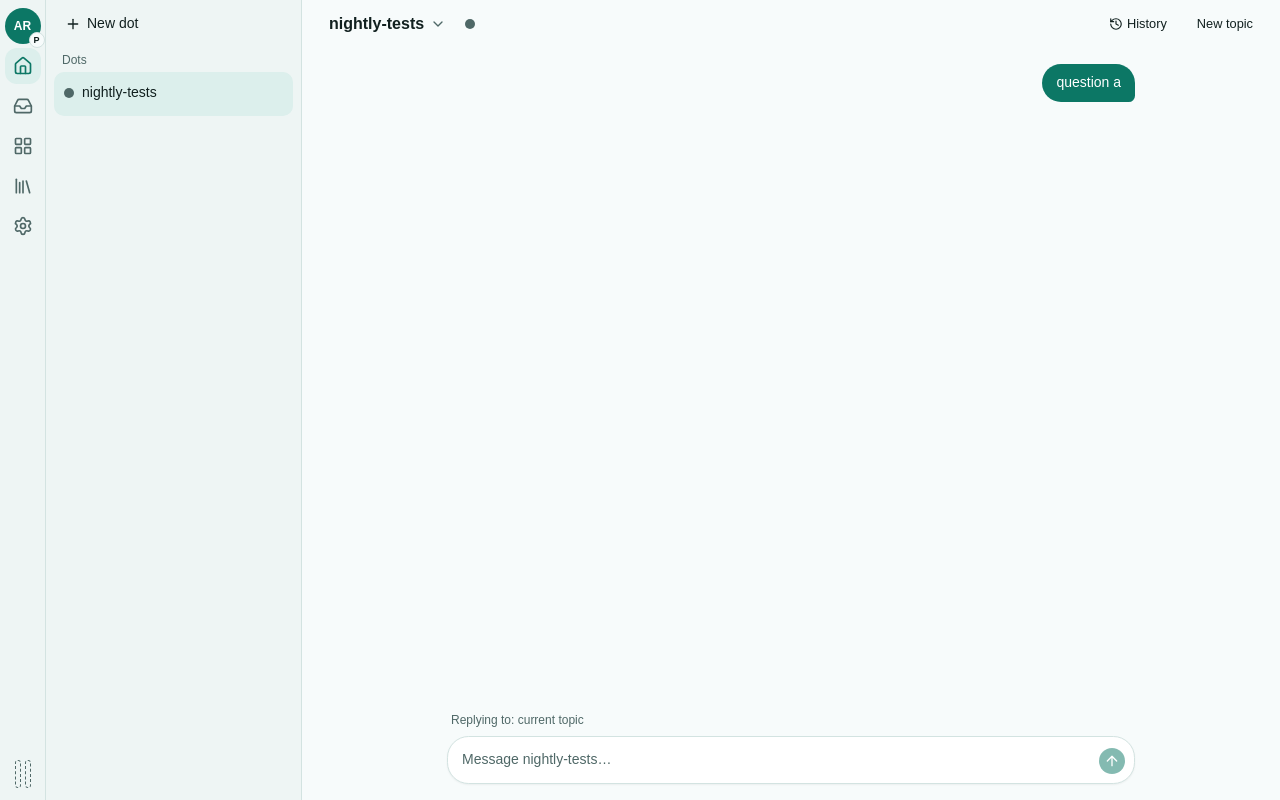
Test case: sending on the home › starts a new topic, which becomes the current one
The image size is (1280, 800).
Check: the text box labelled "Message" is enabled, box [456,745,1090,775]
Click the button "New topic": (1225, 24) [1186,10,1264,38]
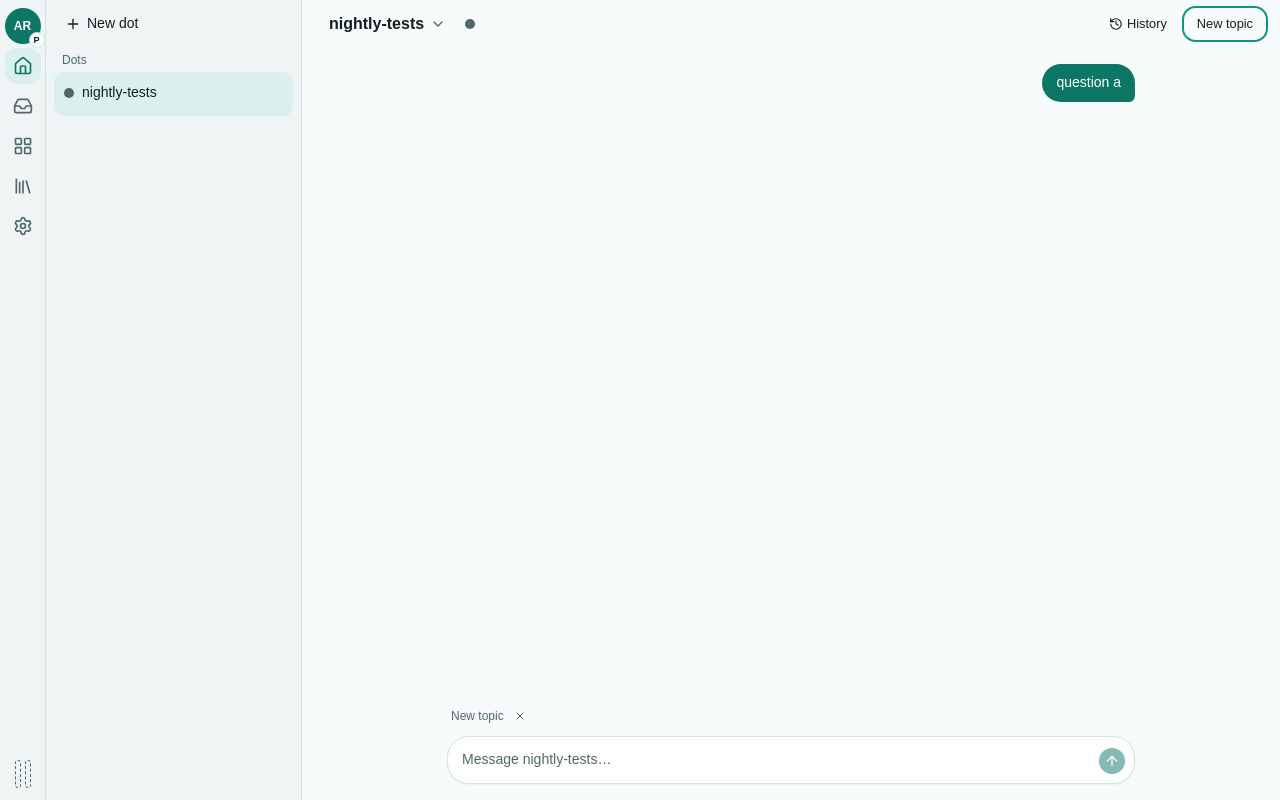
Check: the element named "Reply target" reads "New topic", box [451,709,504,723]
✕ undoes it.
Click the button named "Clear the reply target": (520, 716) [508,704,532,728]
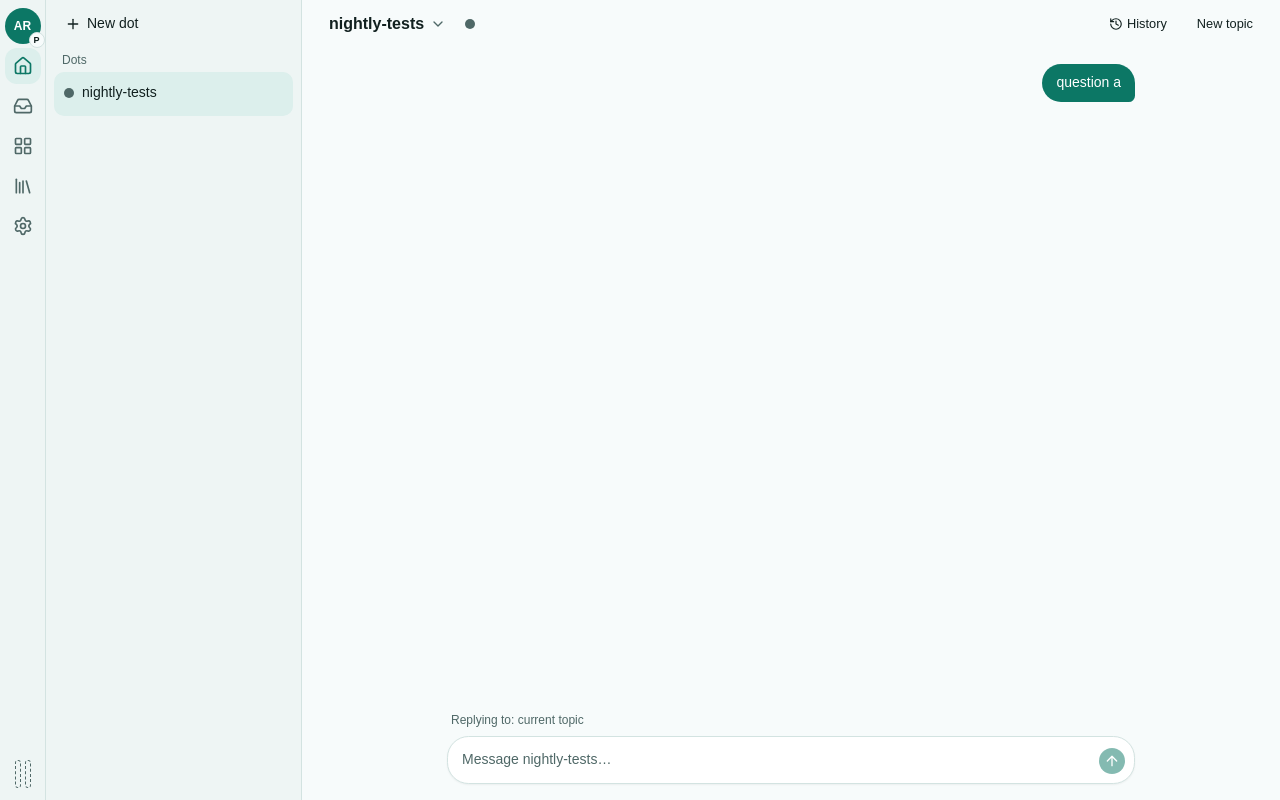
Check: the element named "Reply target" reads "Replying to: current topic", box [451,713,584,727]
Click the button "New topic": (1225, 24) [1186,10,1264,38]
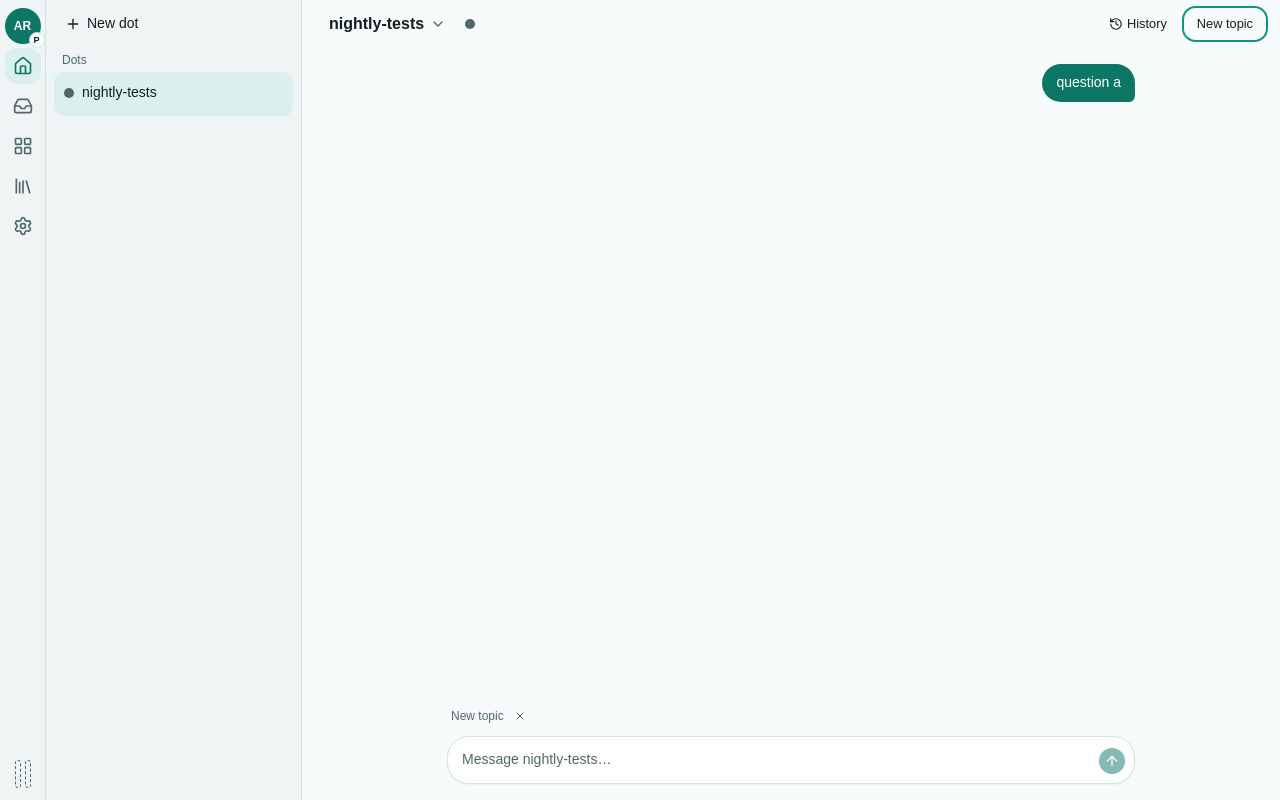
In the text box labelled "Message": (773, 760) [456,745,1090,775], type "Something else"
Then press Enter
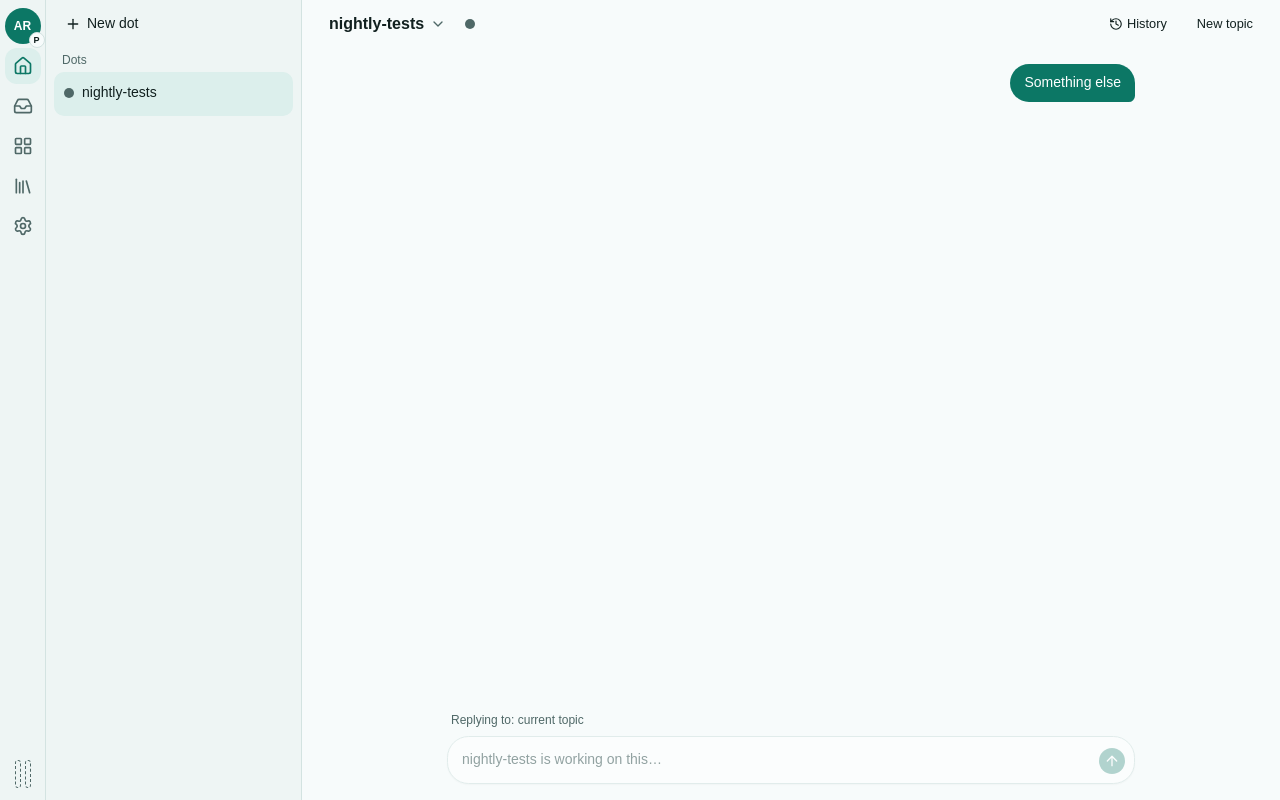
Check: the text "Something else" is shown, box [1010,64,1135,102]
Check: the text "question a" is gone
Check: the element named "Reply target" reads "Replying to: current topic", box [451,713,584,727]
